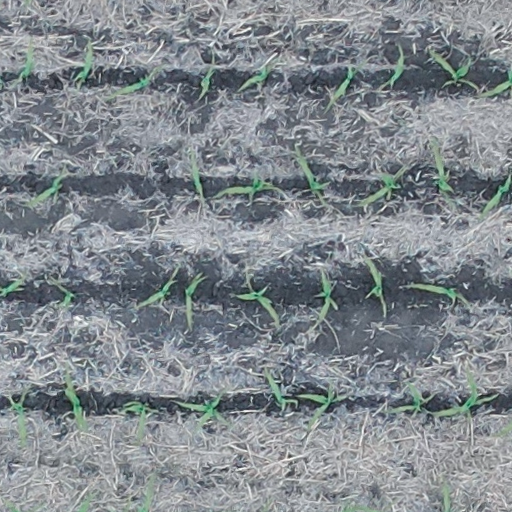planta: (431, 370, 501, 418), (324, 58, 369, 112), (297, 382, 349, 427), (233, 274, 280, 323), (293, 146, 330, 206), (357, 165, 408, 207), (176, 389, 227, 430), (431, 140, 458, 212), (134, 266, 179, 309), (429, 49, 477, 89), (215, 172, 285, 199), (104, 65, 161, 98), (62, 369, 89, 431), (119, 399, 158, 441), (6, 383, 31, 445), (407, 283, 470, 306), (25, 170, 65, 206), (236, 56, 276, 92), (387, 381, 428, 415), (263, 369, 296, 409), (377, 45, 405, 91), (313, 273, 339, 321), (363, 256, 386, 310), (184, 273, 205, 328), (12, 43, 35, 85), (73, 41, 93, 89), (194, 63, 217, 104), (49, 275, 74, 307), (188, 149, 203, 195)
